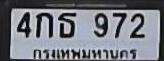2: (129, 12, 144, 37)
4: (16, 11, 30, 37)
7: (112, 12, 126, 37)
9: (93, 12, 107, 36)
A01: (35, 11, 52, 37)
A24: (57, 12, 76, 37)
BKK: (30, 44, 140, 61)
